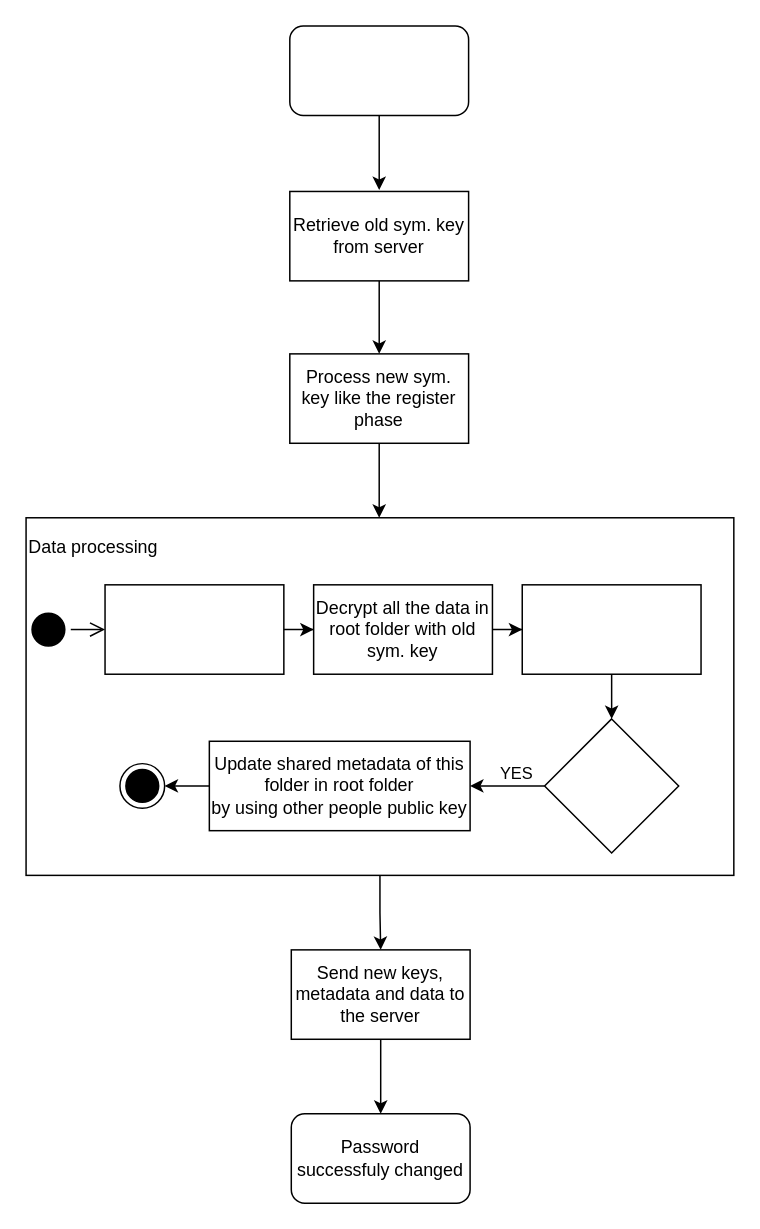
Image size: 760x1229. Some labels were removed from this diagram. Each missing label, with the centre of its shape:
Encrypt all the data in the root folder with new sym. key: the point at 611,628
Is a subfolder shared: the point at 611,785
Replace new sym. key in the metadata: the point at 194,628
User requests a password change: the point at 378,70
